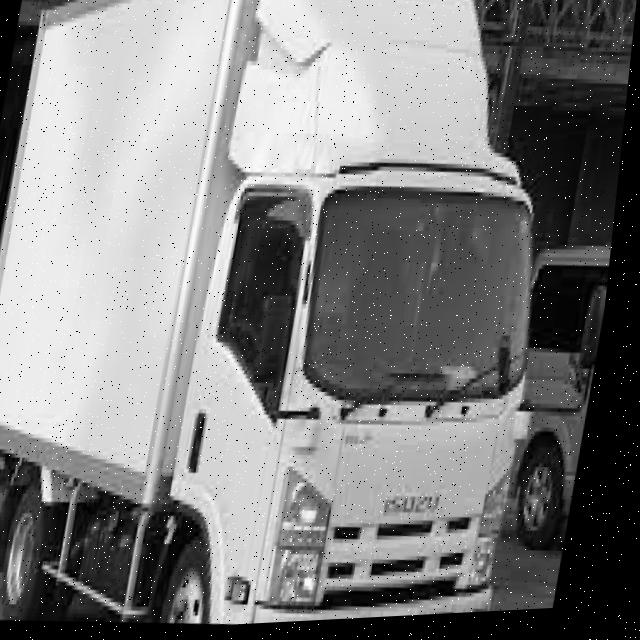truck: (126, 1, 622, 634)
